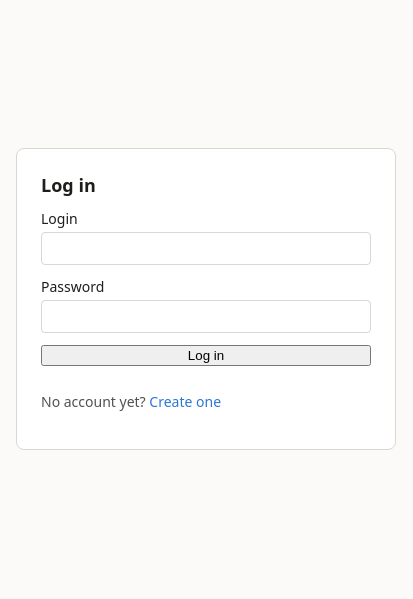
Test: Create an account › sends a plain login, and the result says the administrator approves it and sets what it may do
Click the button "Create one".
click(185, 402)  # box [149, 392, 221, 411]
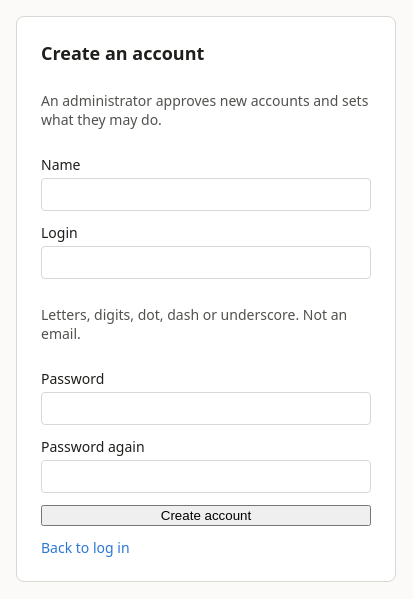
Type "Kim Lee" into the field labelled "Name".
click(206, 194); type("Kim Lee")  # box [41, 178, 371, 211]
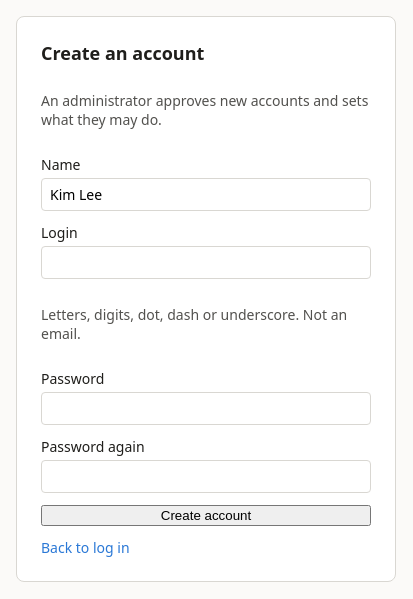
Type "kim.lee" into the field labelled "Login".
click(206, 262); type("kim.lee")  # box [41, 246, 371, 279]
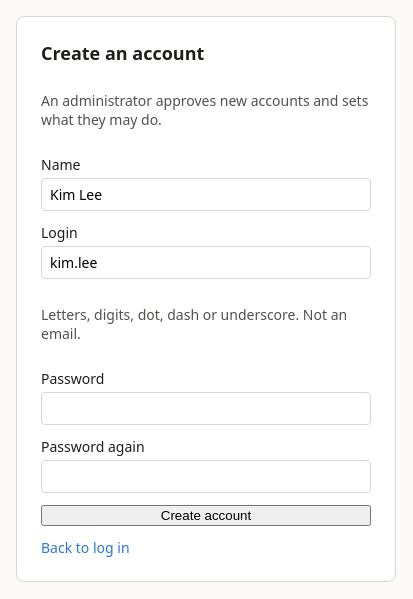
Type "kim-pass-12" into the password field labelled "Password".
click(206, 408); type("kim-pass-12")  # box [41, 392, 371, 425]
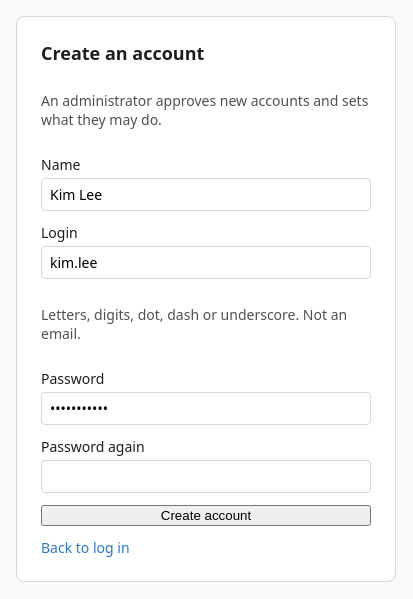
Type "kim-pass-12" into the password field labelled "Password again".
click(206, 476); type("kim-pass-12")  # box [41, 460, 371, 493]
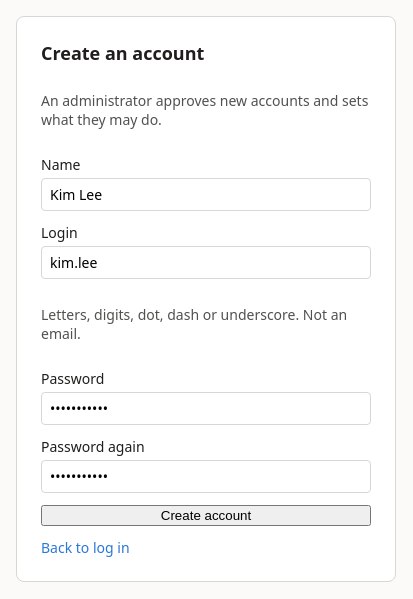
Click the button "Create account".
click(206, 516)  # box [41, 505, 371, 526]
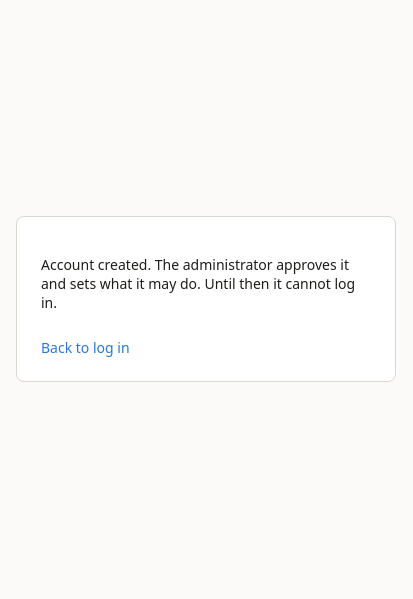
Expected: the message shows "The administrator approves it and sets what it may do", [41, 255, 355, 312]
Expected: the message shows "cannot log in", [41, 255, 355, 312]
